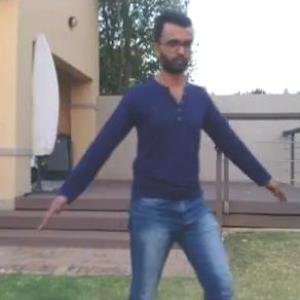land: (29, 26, 266, 299)
